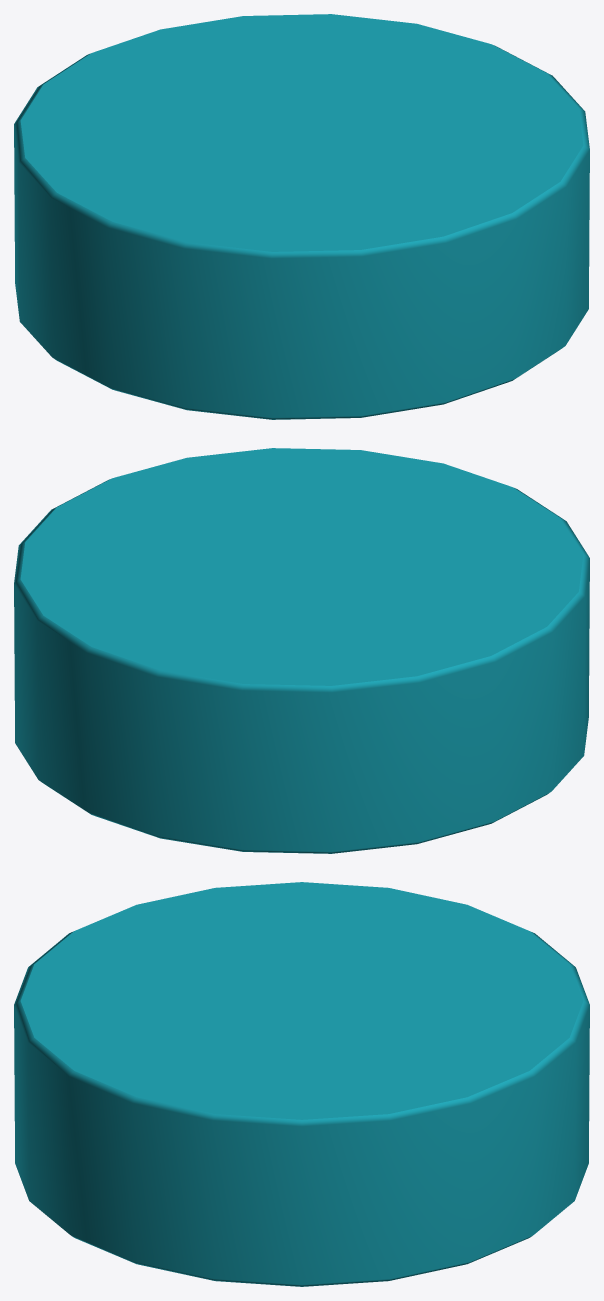
File: Blocker_A_Ring.fbx
The picture shows the model from 3 angles, top to bottom: view 1: azimuth 30°, elevation 25°; view 2: azimuth 150°, elevation 25°; view 3: azimuth 270°, elevation 25°; orthographic projection.
Parts seen in each view (by area): view 1: Blocker_A_Ring; view 2: Blocker_A_Ring; view 3: Blocker_A_Ring.
Part boxes in pixels (box(x1,y1,x2,y2)): Blocker_A_Ring: box(14, 14, 589, 419); Blocker_A_Ring: box(14, 448, 589, 853); Blocker_A_Ring: box(14, 882, 589, 1286).
Bounding box in the file's own units: 1.88 × 0.6009 × 1.88.
